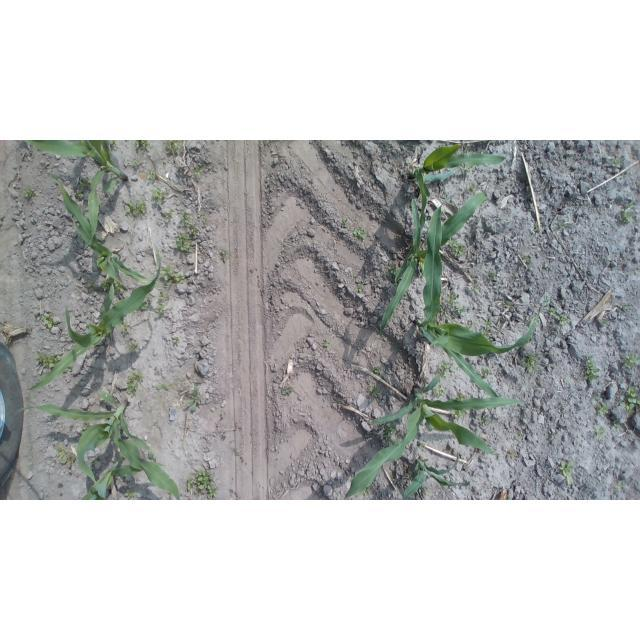Maize: (415, 194, 542, 407), (344, 373, 528, 499), (18, 390, 183, 500), (378, 190, 490, 336), (26, 275, 159, 393), (54, 176, 162, 290), (25, 140, 132, 249), (409, 143, 507, 229), (398, 456, 473, 499), (80, 460, 152, 500)
Weeds: (183, 469, 223, 500), (182, 386, 208, 414), (579, 353, 602, 384), (445, 291, 467, 322), (622, 385, 640, 421), (558, 455, 579, 485), (160, 263, 185, 286), (522, 351, 544, 377), (35, 351, 63, 371), (549, 306, 571, 330), (621, 201, 640, 228), (53, 446, 75, 469), (174, 233, 195, 255), (125, 371, 145, 393), (448, 237, 467, 260), (478, 316, 497, 339), (621, 353, 640, 372), (150, 189, 168, 208), (484, 268, 500, 289), (437, 359, 455, 377), (477, 414, 496, 431), (218, 244, 232, 267), (554, 218, 575, 233), (519, 253, 538, 269), (381, 427, 396, 446), (42, 311, 57, 330), (125, 200, 140, 219), (153, 304, 175, 316), (466, 281, 482, 297), (155, 380, 173, 394), (594, 424, 606, 444), (129, 340, 144, 356), (595, 403, 610, 419), (479, 365, 496, 379), (135, 140, 154, 152), (146, 167, 161, 182), (366, 386, 382, 400), (502, 296, 516, 312), (157, 294, 174, 307), (183, 226, 201, 238), (613, 477, 626, 493), (548, 427, 560, 444), (168, 142, 182, 156), (434, 384, 447, 399), (282, 384, 295, 399), (353, 228, 366, 243), (191, 166, 206, 179), (451, 410, 467, 422), (518, 432, 533, 444), (612, 156, 622, 174), (322, 335, 332, 352), (467, 182, 480, 195), (119, 323, 131, 337), (182, 212, 194, 226), (611, 421, 623, 434), (163, 208, 176, 220), (355, 281, 366, 295), (25, 188, 35, 203), (619, 302, 630, 315), (124, 491, 139, 500), (342, 215, 351, 230), (371, 364, 384, 374), (139, 200, 146, 216), (170, 335, 178, 348), (426, 485, 433, 497)
